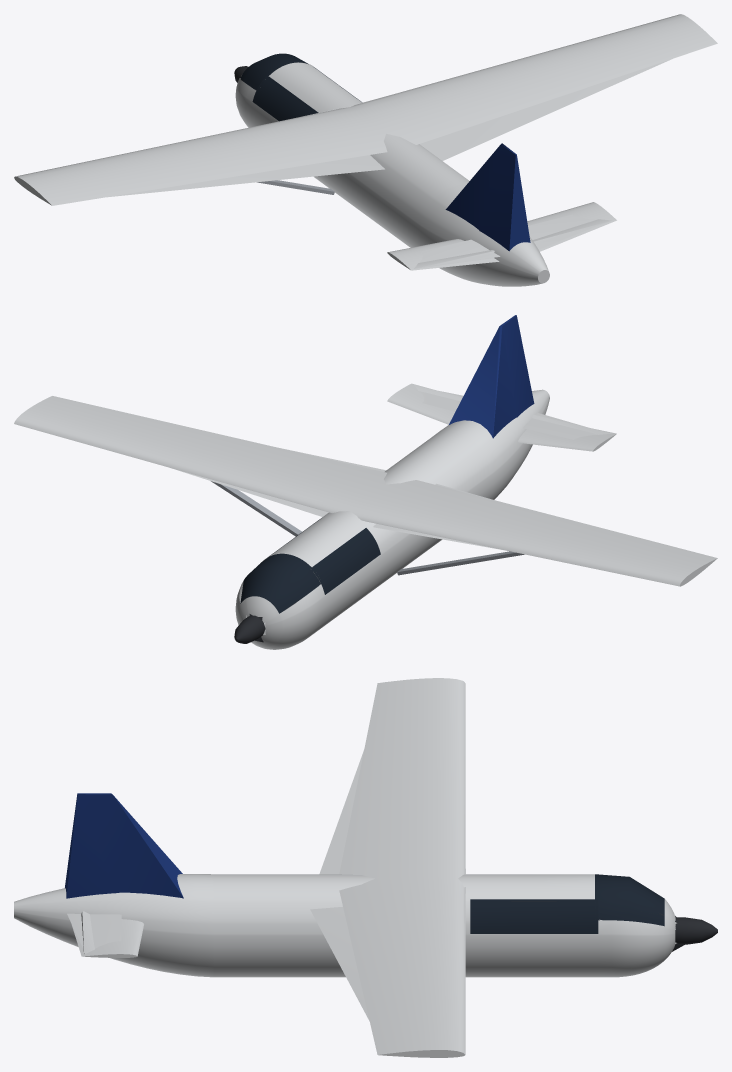
The model's file is lat_light.dae.
The picture shows the model from 3 angles, top to bottom: view 1: azimuth 30°, elevation 25°; view 2: azimuth 150°, elevation 25°; view 3: azimuth 270°, elevation 25°; orthographic projection. The views are drawn at different scales.
Visible parts, largest first — view 1: lat_light150, lat_light1, lat_light32; view 2: lat_light150, lat_light1, lat_light32; view 3: lat_light150, lat_light1, lat_light32.
Part boxes in pixels (x1,y1,x2,y2): lat_light150: [14, 14, 717, 286]; lat_light1: [22, 59, 671, 266]; lat_light32: [240, 75, 612, 281]; lat_light150: [14, 383, 717, 649]; lat_light1: [171, 315, 710, 634]; lat_light32: [237, 385, 690, 642]; lat_light150: [14, 678, 717, 1057]; lat_light1: [65, 749, 676, 1056]; lat_light32: [64, 805, 684, 1054].
Size of the model in its own units: 11 by 8.8 by 2.47.
